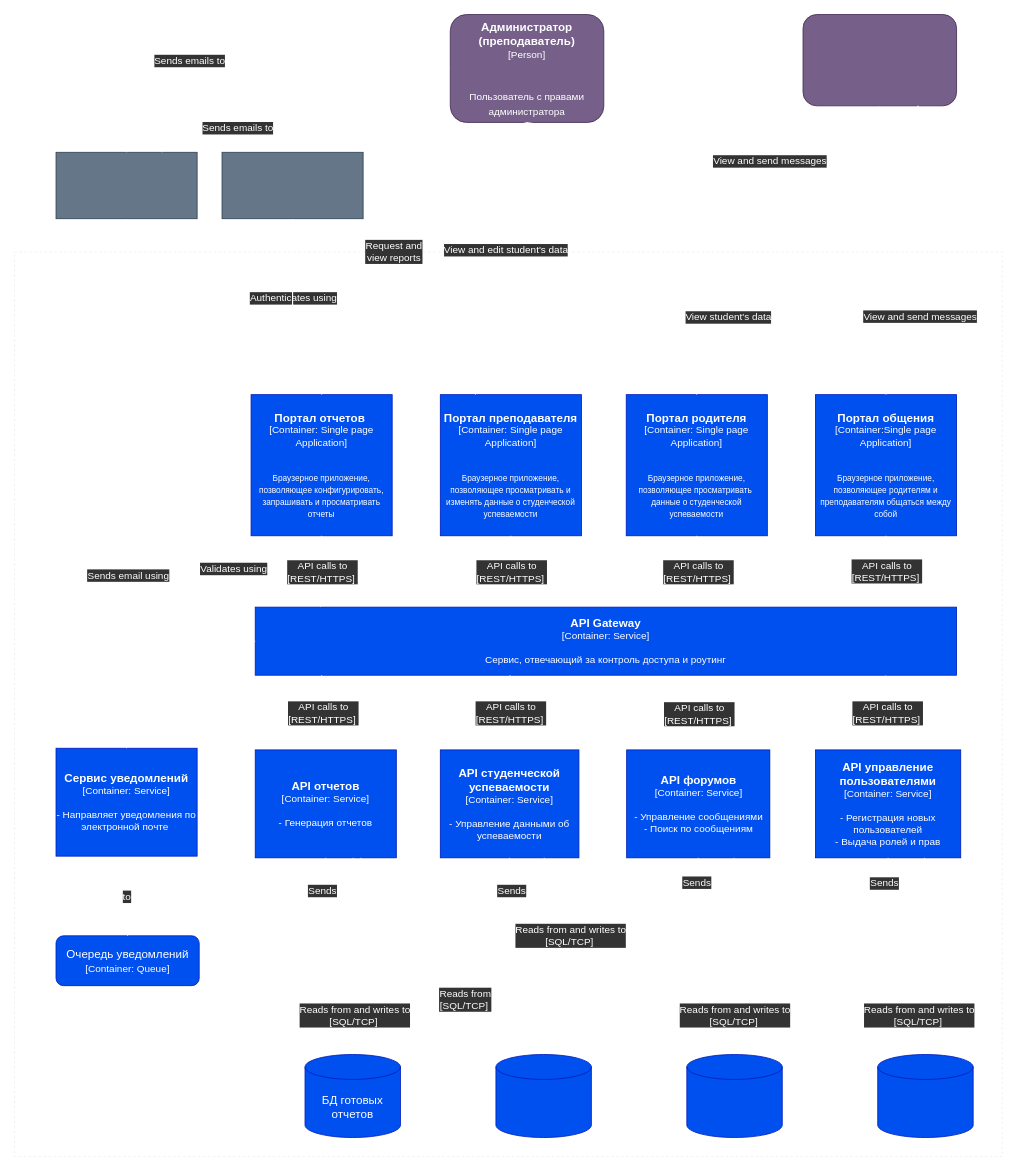
Some shapes in this 1017 by 1171 pixel diagram are drawn without their labels. Each missing label, with the centre of its shape:
"Auth [Software system] Внешний Identity provider (Yandex)" goes at (x=292, y=185).
"Email system [Software system] Почтовая система (MS Exchange server)" goes at (x=126, y=185).
"БД пользователей" goes at (x=925, y=1096).
"БД студенческой успеваемости" goes at (x=543, y=1096).
"БД форумных сообщений" goes at (x=734, y=1096).
"Пользователь (родитель) [Person] Внешний пользователь" goes at (x=879, y=60).
